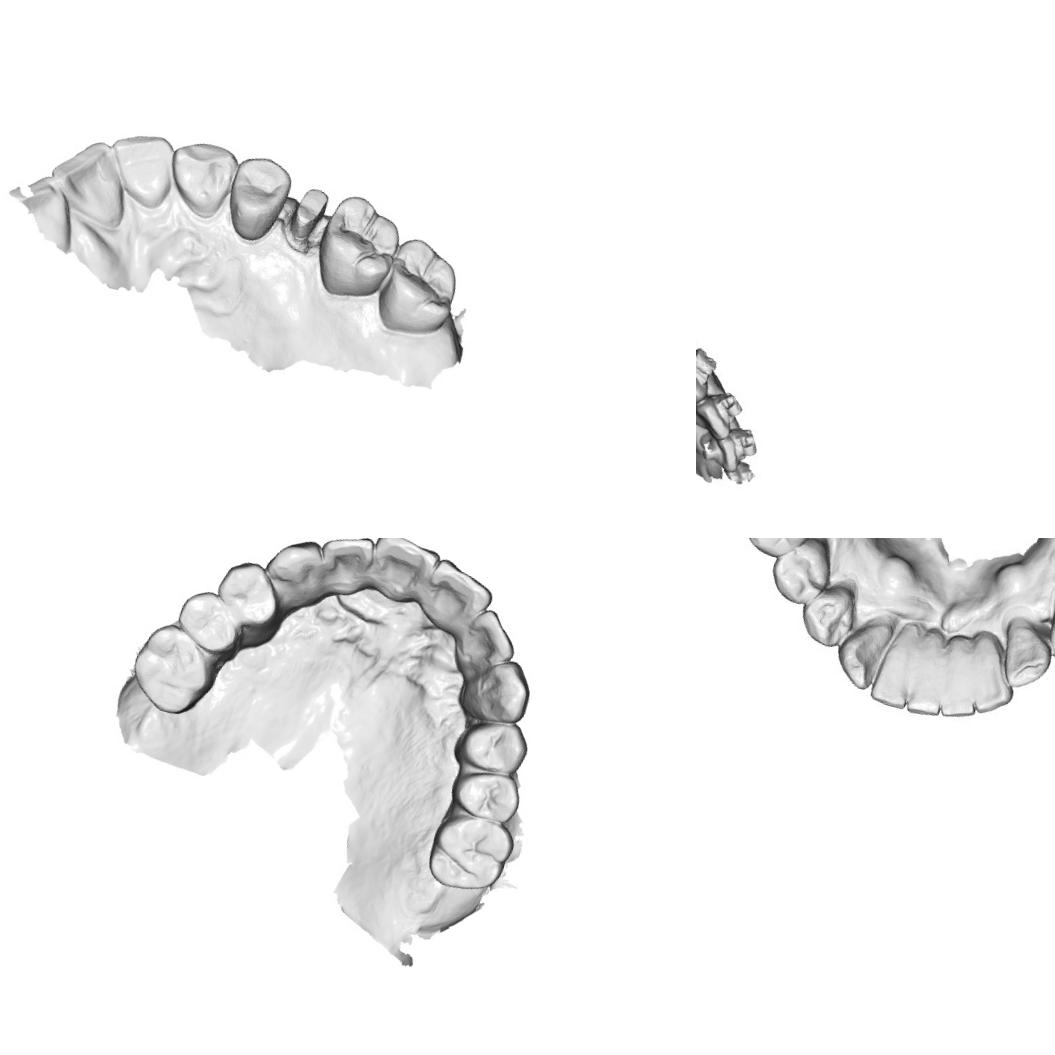canine: (161, 126, 241, 224), (450, 647, 540, 733), (829, 606, 897, 694), (256, 538, 329, 610), (997, 616, 1055, 689), (696, 348, 718, 416)
crown: (280, 179, 331, 250)
incisor: (40, 130, 141, 234), (96, 118, 184, 218), (413, 553, 500, 640), (866, 614, 932, 710), (958, 630, 1030, 717), (360, 538, 442, 609), (901, 622, 961, 718), (932, 630, 994, 720), (452, 602, 523, 675), (310, 538, 377, 599), (696, 389, 743, 445), (706, 432, 747, 473)
molar: (306, 188, 405, 306), (120, 614, 224, 724), (368, 231, 466, 343), (420, 805, 520, 901), (720, 538, 818, 559)
premolar: (219, 150, 295, 244), (207, 553, 290, 636), (168, 583, 247, 661), (450, 709, 536, 780), (445, 760, 527, 828), (763, 538, 837, 605), (797, 579, 863, 650), (1042, 594, 1055, 668)
